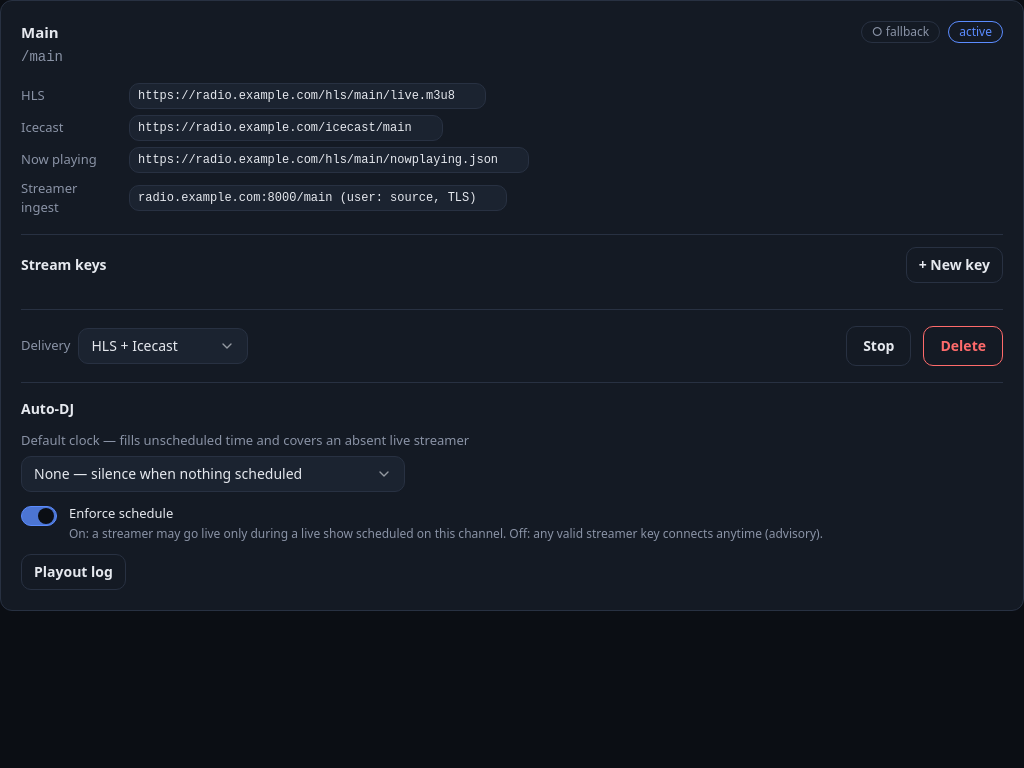
Scenario: ChannelCard stream keys › reveals a freshly created key exactly once, with a shown-once notice
Check: the text "sk_live_SUPERSECRET" is not shown
Click the button "+ New key" at (954, 264), box [906, 246, 1003, 282]
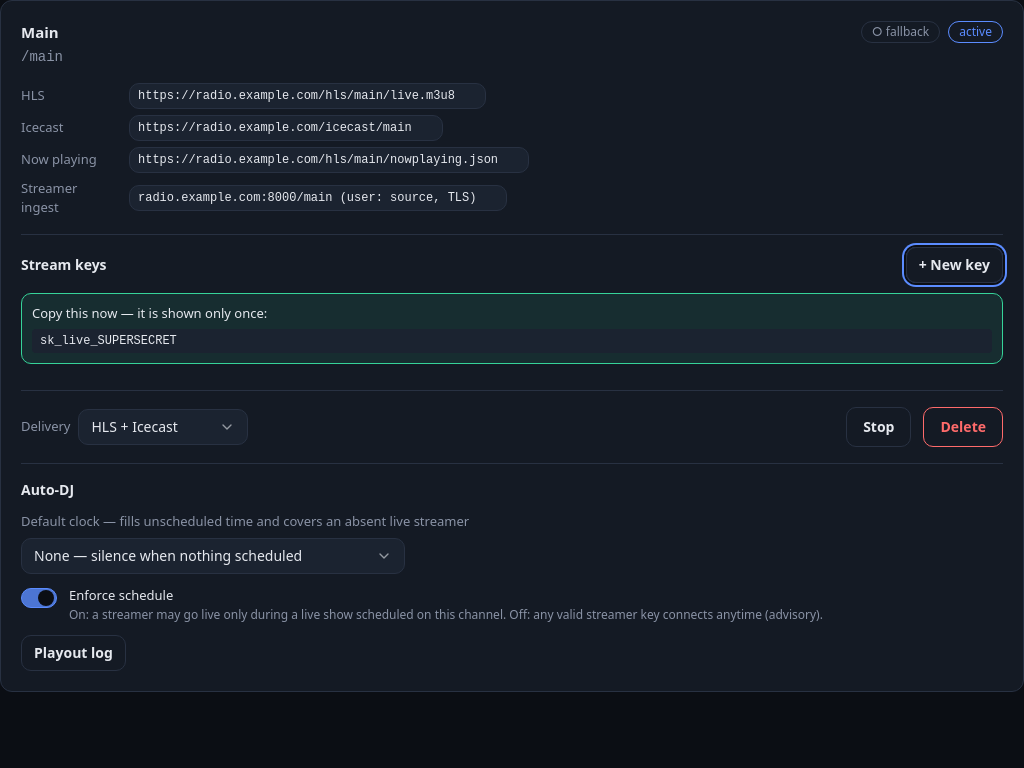
Check: the text "sk_live_SUPERSECRET" is shown, box [32, 329, 992, 353]
Check: the text "Copy this now — it is shown only once: sk_live_SUPERSECRET" is shown, box [21, 292, 1003, 364]
